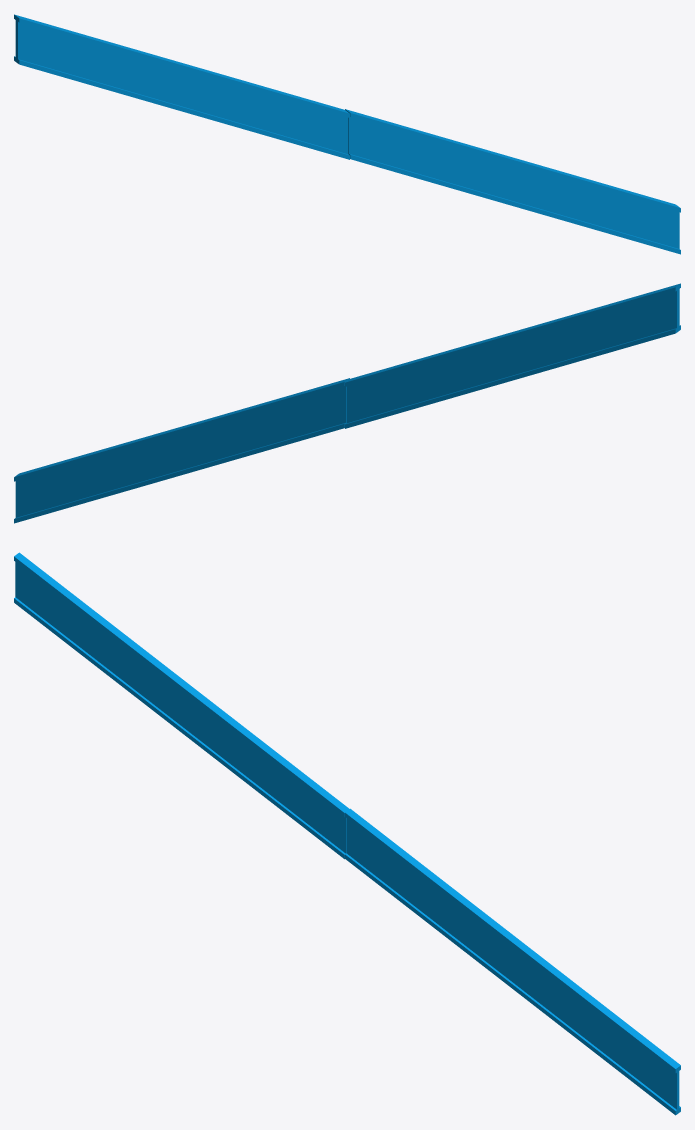
Rendered from Metal_Stairs_01_Rail.fbx.
3 views of the same model, one above another, from view 1: azimuth 30°, elevation 25°; view 2: azimuth 150°, elevation 25°; view 3: azimuth 330°, elevation 25° (orthographic).
Visible parts, largest first — view 1: Metal_Stairs_01_Rail; view 2: Metal_Stairs_01_Rail; view 3: Metal_Stairs_01_Rail.
Boxes of the visible parts, <box> form: Metal_Stairs_01_Rail: <box>14,14,680,254</box>; Metal_Stairs_01_Rail: <box>14,283,680,523</box>; Metal_Stairs_01_Rail: <box>14,552,680,1115</box>.
Bounding box in the file's own units: 594 × 341 × 8.33.
